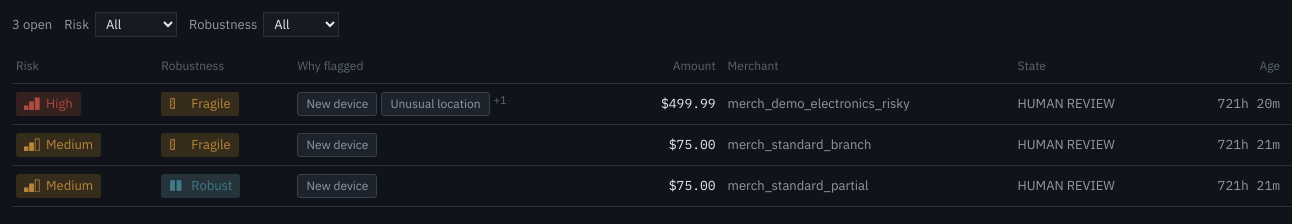
Scenario: QueueTable › filters by robustness
The width and height of the screenshot is (1292, 224).
Select "Robust" in the dropdown labelled "Robustness" at [301, 24], box [263,12,339,37]
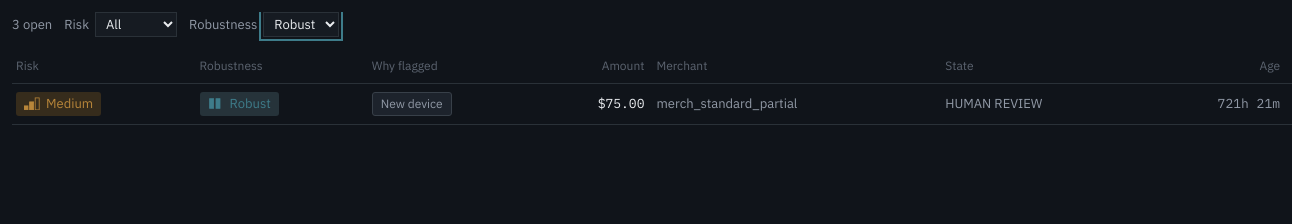
expect the text "merch_standard_partial" is shown: met, box [656,84,945,124]
expect the text "merch_standard_branch" is gone: met
